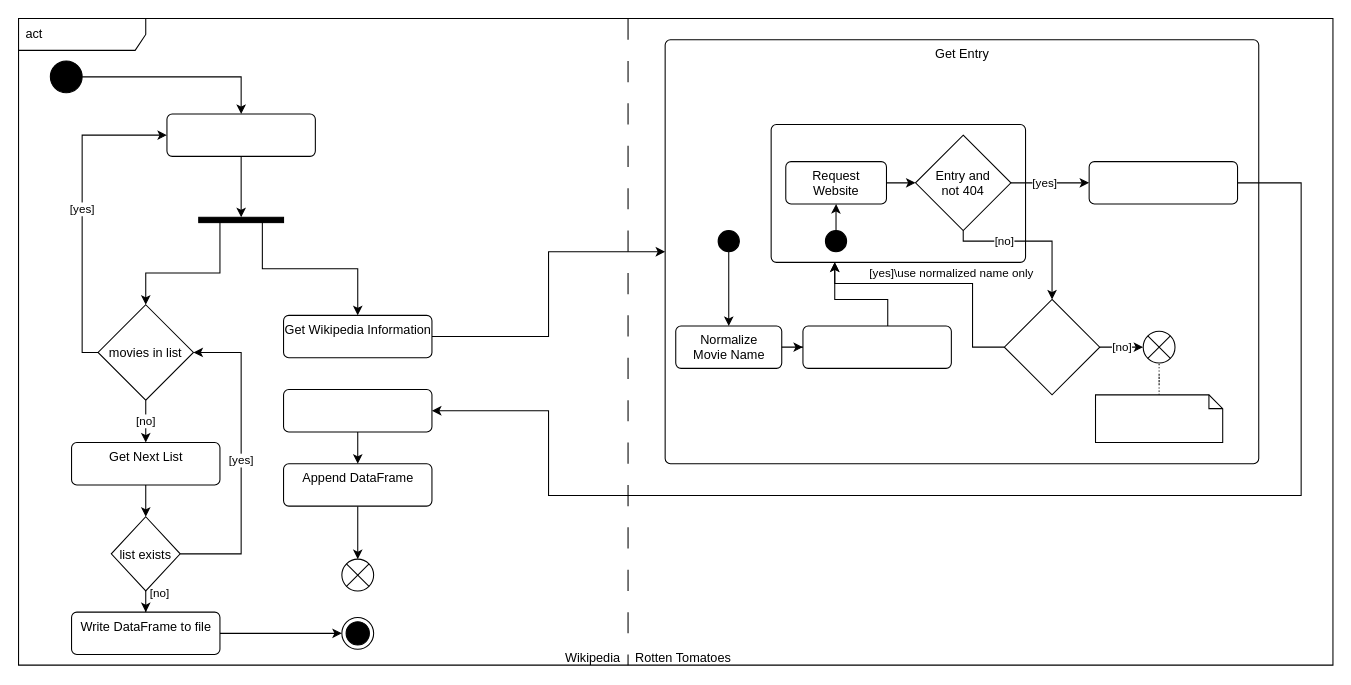
Some shapes in this 1351 by 685 pixel diagram are drawn without their labels. Here are the shapes that lost their labels. From the top down, the centre of each, then its label:
the point at 240,134: Get URL to Movie
the point at 1163,182: Extract Information
the point at 876,346: Append year
the point at 1051,346: year appended
the point at 357,410: Merge Information
the point at 1158,418: Exit Iteration
